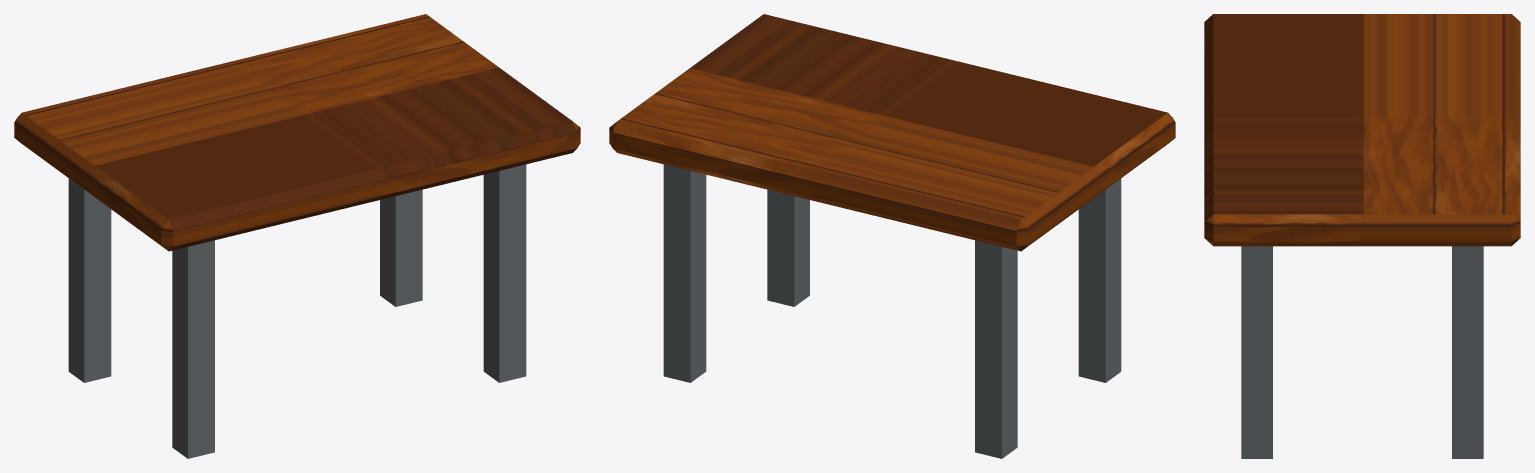
File: table_material_variant.fbx
3 renders of one model, left to right at view 1: azimuth 30°, elevation 25°; view 2: azimuth 150°, elevation 25°; view 3: azimuth 270°, elevation 25°, orthographic.
Visible parts, largest first — view 1: TableTop, TableLeg.002, TableLeg, TableLeg.001, TableLeg.003; view 2: TableTop, TableLeg.003, TableLeg.001, TableLeg, TableLeg.002; view 3: TableTop, TableLeg.002, TableLeg.003.
Part boxes in pixels (left/top/right/bottom): TableTop: left=14, top=14, right=580, bottom=251; TableLeg.002: left=483, top=164, right=526, bottom=382; TableLeg: left=172, top=240, right=214, bottom=458; TableLeg.001: left=68, top=178, right=111, bottom=382; TableLeg.003: left=380, top=189, right=422, bottom=306; TableTop: left=609, top=14, right=1175, bottom=251; TableLeg.003: left=663, top=164, right=706, bottom=382; TableLeg.001: left=975, top=240, right=1017, bottom=458; TableLeg: left=1078, top=178, right=1121, bottom=382; TableLeg.002: left=767, top=189, right=809, bottom=306; TableTop: left=1204, top=14, right=1520, bottom=246; TableLeg.002: left=1241, top=246, right=1272, bottom=458; TableLeg.003: left=1452, top=246, right=1483, bottom=458.
Bounding box in the file's own units: 1.4 × 0.82 × 0.9.
2 materials, 1 textured.
